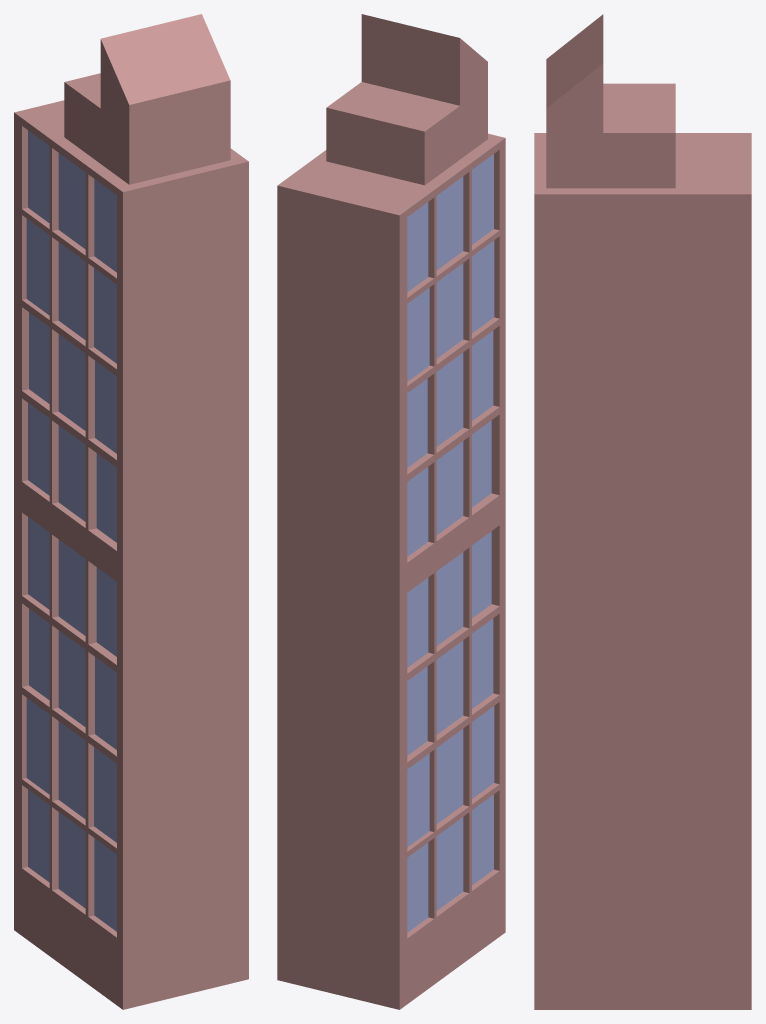
File: Building_1_deco.fbx
3 views of the same model, side by side, from view 1: azimuth 30°, elevation 25°; view 2: azimuth 150°, elevation 25°; view 3: azimuth 270°, elevation 25° (orthographic). The views are drawn at different scales.
Visible parts, largest first — view 1: building1; view 2: building1; view 3: building1.
Boxes of the visible parts, box(x1,y1,x2,y2) form: building1: box(14, 14, 248, 1009); building1: box(277, 14, 505, 1009); building1: box(534, 14, 751, 1009).
Bounding box in the file's own units: 2.63 × 18.82 × 3.94.
